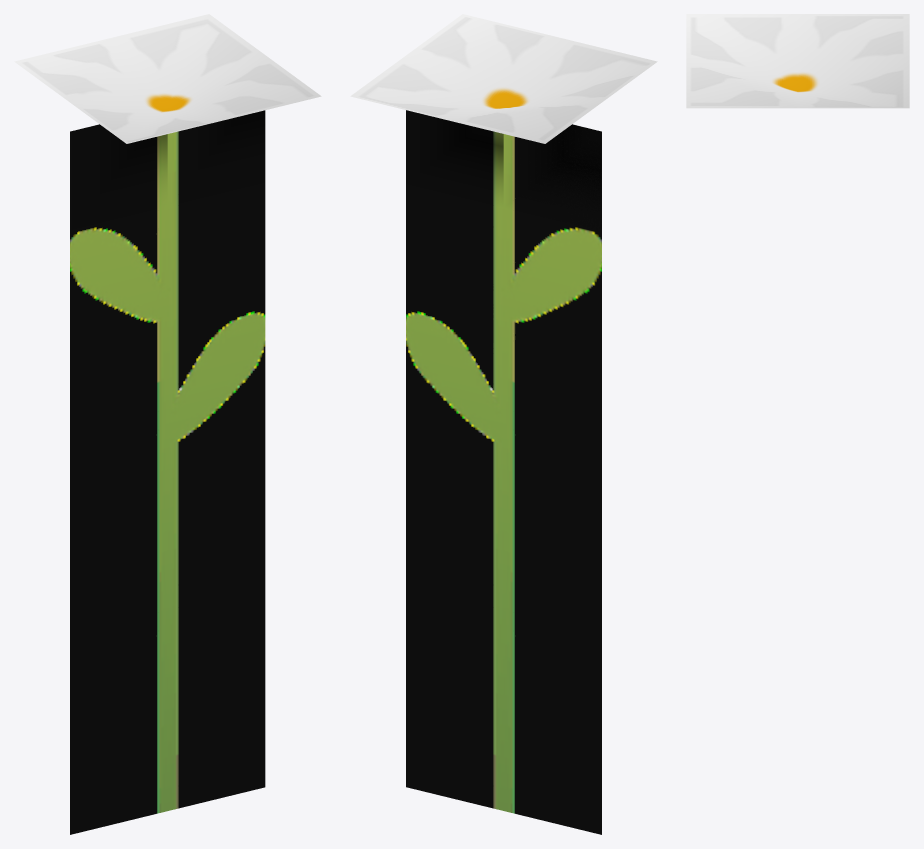
The model's file is Flower_01.glb.
3 renders of one model, left to right at view 1: azimuth 30°, elevation 25°; view 2: azimuth 150°, elevation 25°; view 3: azimuth 270°, elevation 25°, orthographic.
Visible parts, largest first — view 1: Flower_01; view 2: Flower_01; view 3: Flower_01.
Part boxes in pixels (box(x1,y1,x2,y2)): Flower_01: box(14, 14, 321, 834); Flower_01: box(350, 14, 657, 834); Flower_01: box(686, 14, 909, 108).
Size of the model in its own units: 0.1053 by 0.376 by 0.1049.
1 material, 1 textured.
